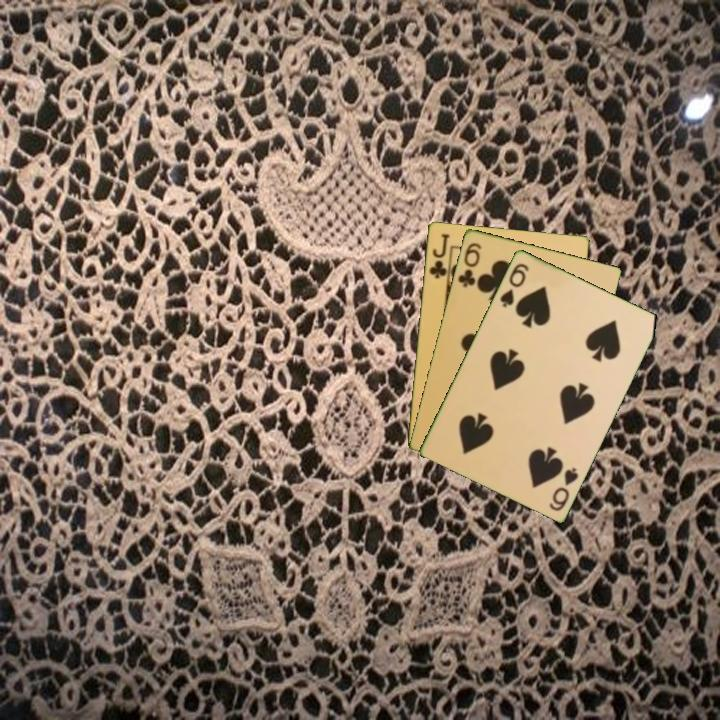6c: (454, 239, 484, 290)
6s: (545, 464, 581, 514), (496, 259, 531, 310)
Jc: (425, 230, 452, 281)
